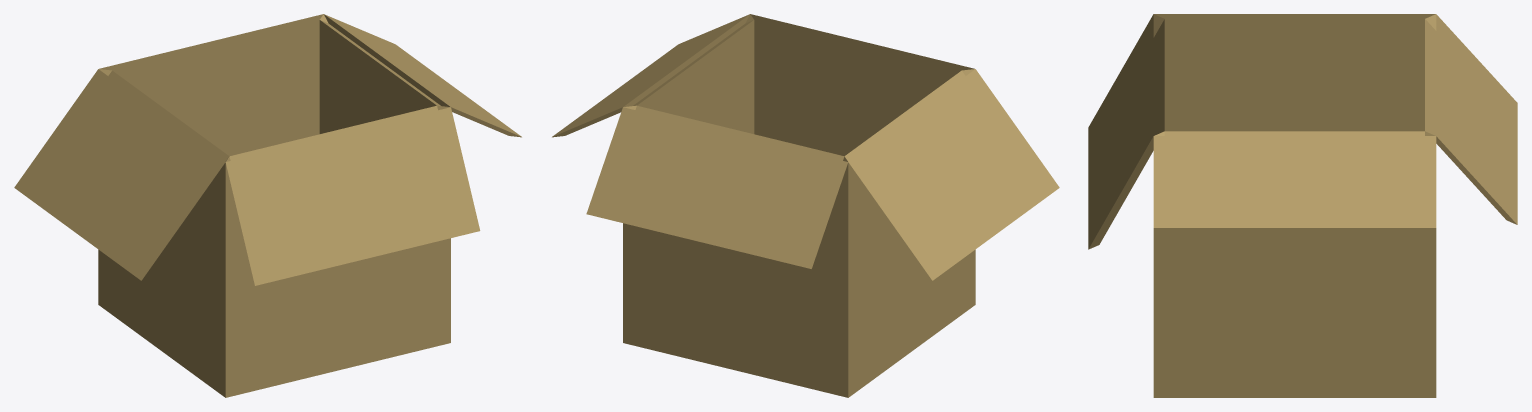
3 views of the same model, side by side, from view 1: azimuth 30°, elevation 25°; view 2: azimuth 150°, elevation 25°; view 3: azimuth 270°, elevation 25° (orthographic). The views are drawn at different scales.
Parts seen in each view (by area): view 1: коробка.002; view 2: коробка.002; view 3: коробка.002.
Part boxes in pixels (x1,y1,x2,y2): коробка.002: (14,14,521,397); коробка.002: (552,14,1059,397); коробка.002: (1088,14,1517,397).
Size of the model in its own units: 240 by 142 by 211.
